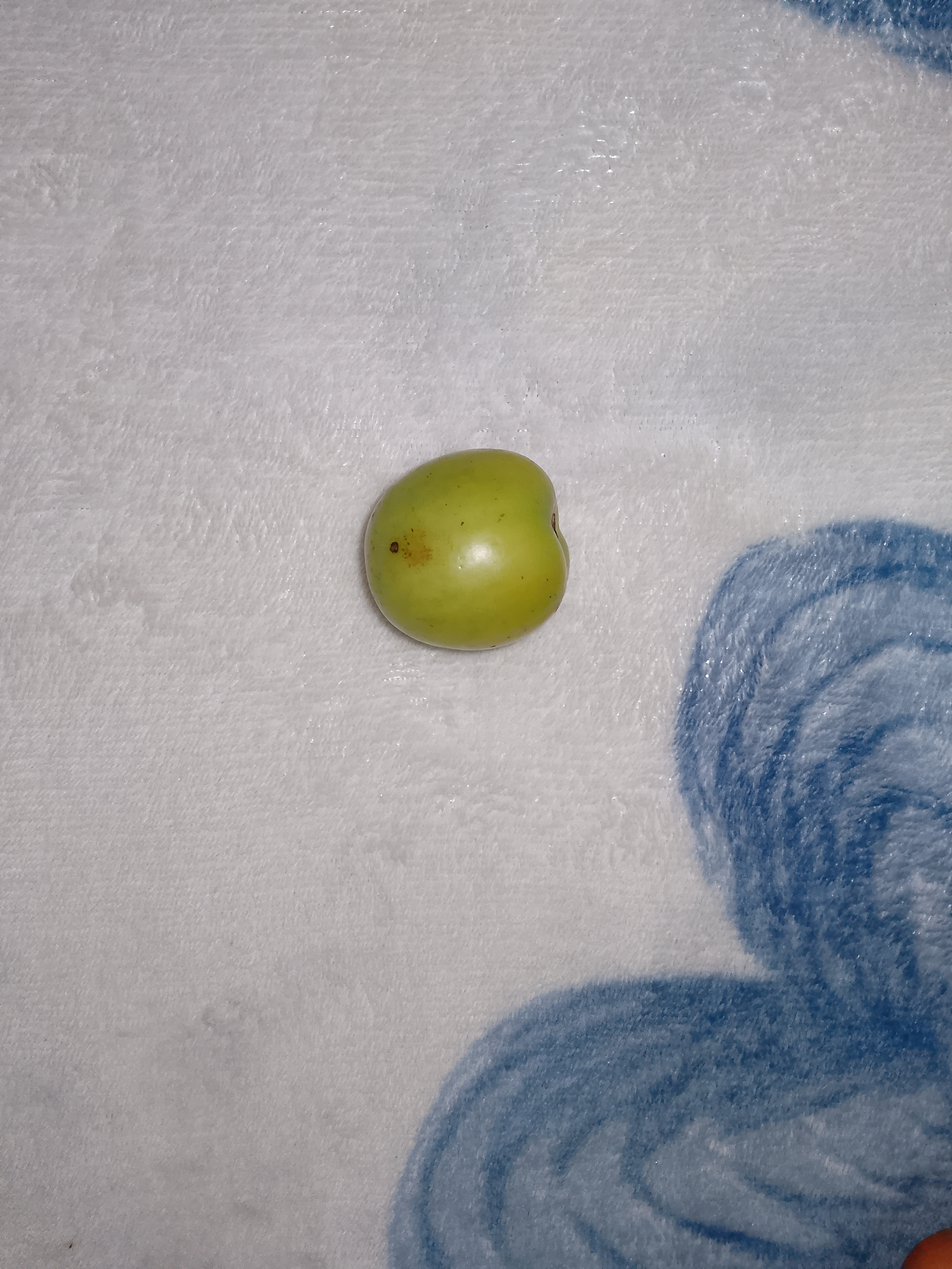Unripe: (319, 415, 615, 683)
